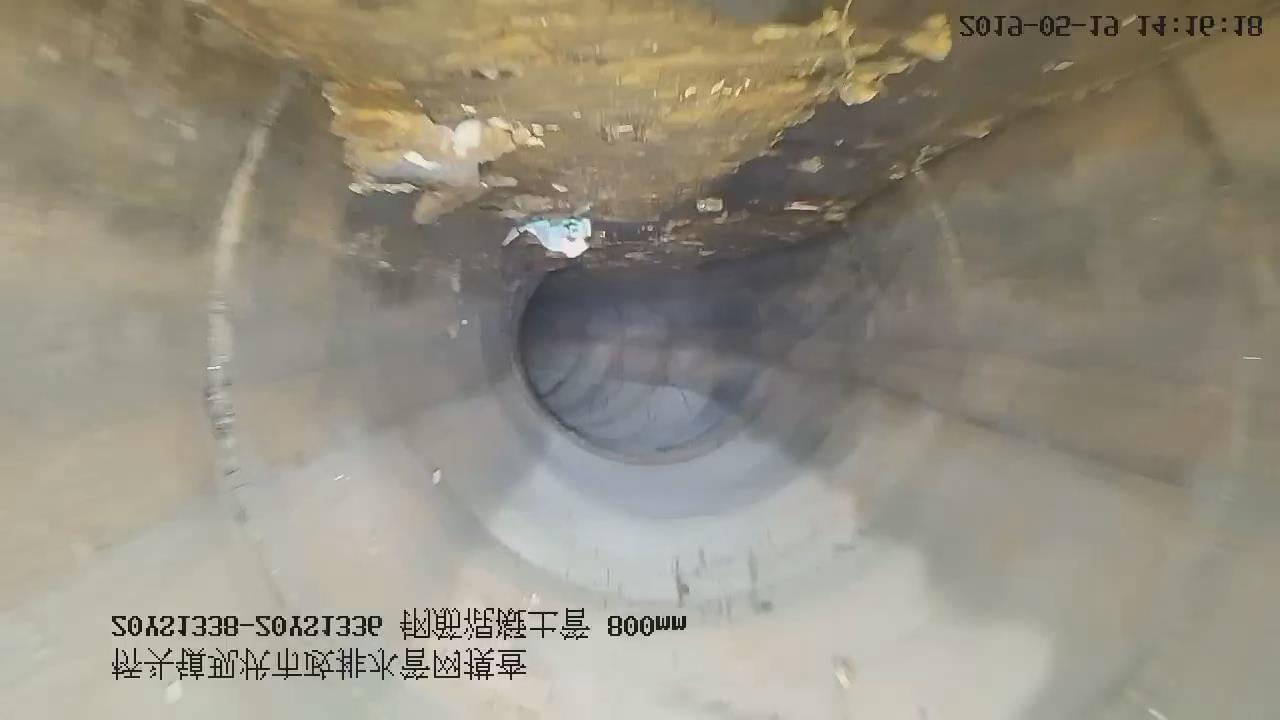CJ: (198, 1, 989, 264)
